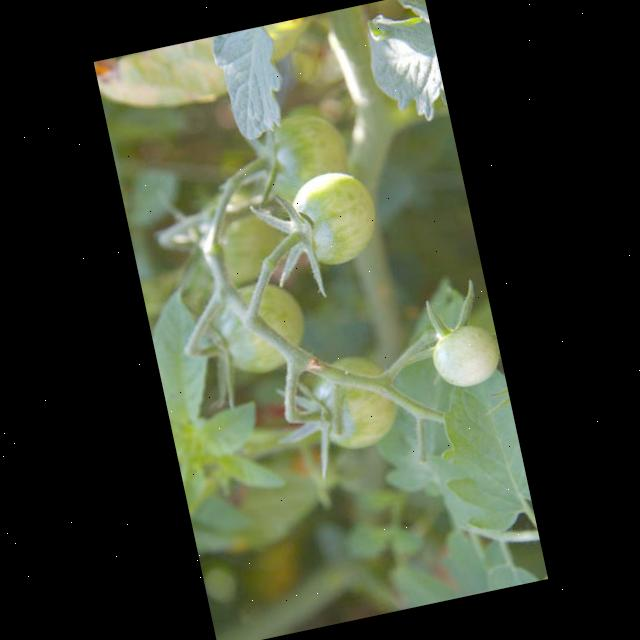tomato: (272, 150, 388, 280), (415, 312, 506, 402)
